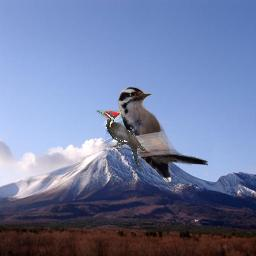Woodpecker: (118, 87, 208, 182), (96, 110, 146, 172)
